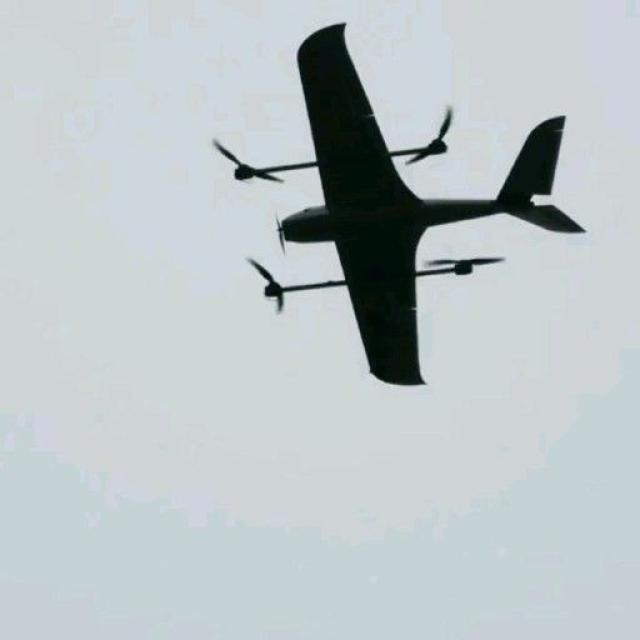iha: (212, 27, 588, 391)
